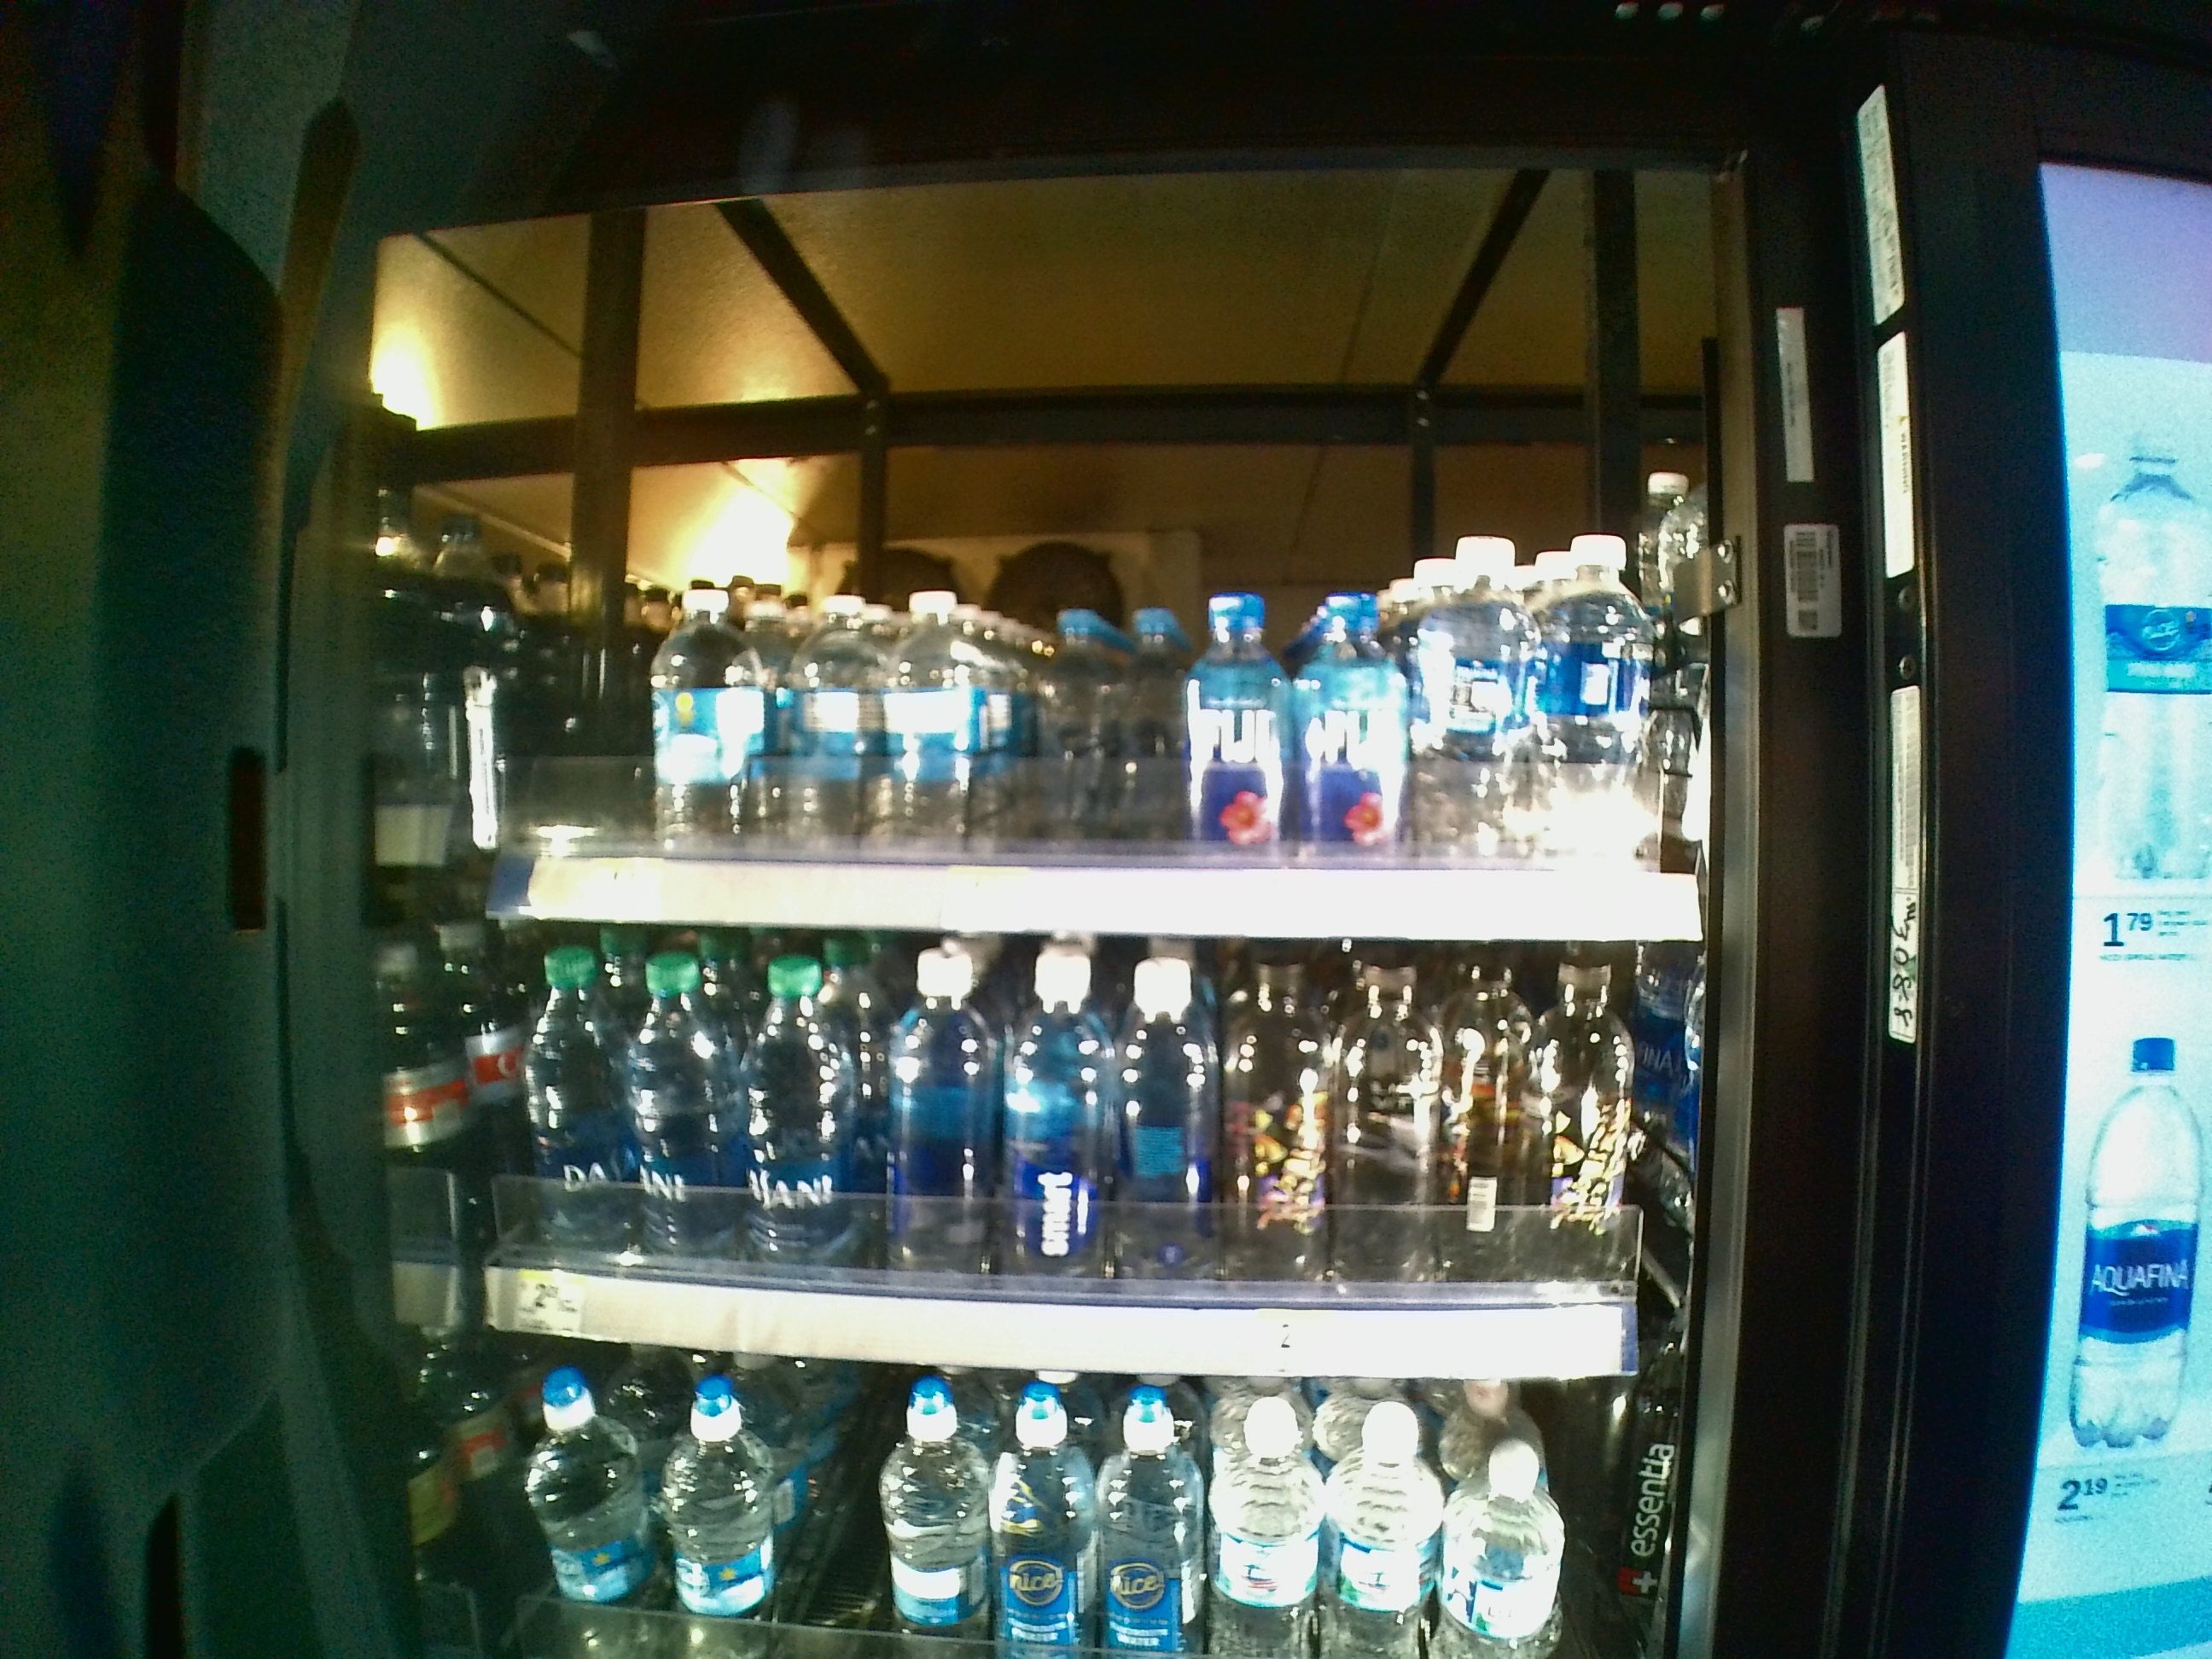Shelf: (392, 221, 1726, 939), (394, 939, 1730, 1384)
